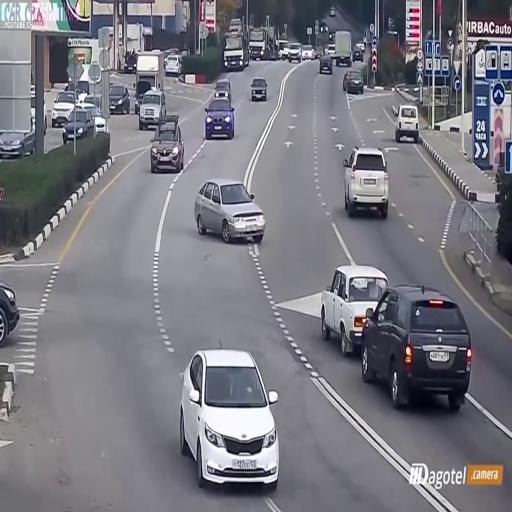小汽车: (175, 347, 288, 488), (367, 284, 475, 416), (317, 252, 373, 350), (196, 175, 268, 244), (343, 142, 391, 216), (145, 113, 188, 177), (58, 101, 97, 148), (0, 278, 26, 344), (202, 96, 238, 140), (394, 97, 422, 150), (136, 81, 166, 130), (220, 31, 249, 71), (105, 77, 129, 121), (52, 83, 72, 130), (342, 66, 368, 94), (286, 38, 306, 68), (250, 75, 270, 103), (317, 48, 335, 78), (165, 52, 183, 78)
